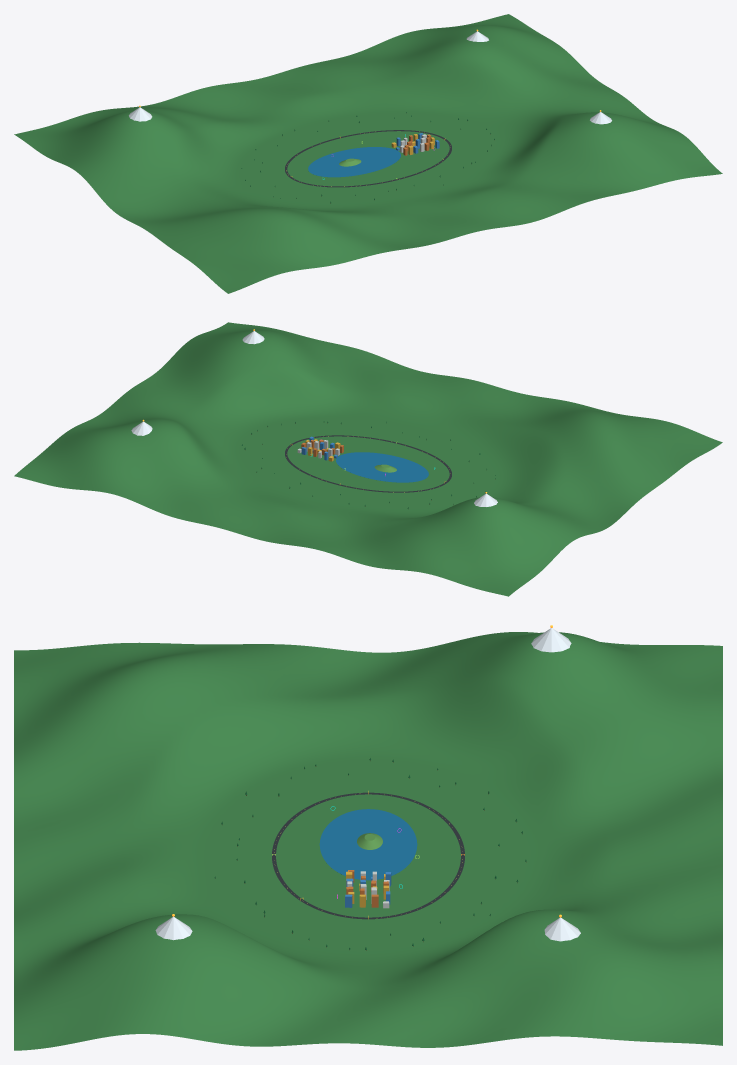
Rendered from arrietty_flight_world.glb.
The picture shows the model from 3 angles, top to bottom: view 1: azimuth 30°, elevation 25°; view 2: azimuth 150°, elevation 25°; view 3: azimuth 270°, elevation 25°; orthographic projection. The views are drawn at different scales.
Visible parts, largest first — view 1: Flight World Terrain, Mirror Lake, Grand Loop Road; view 2: Flight World Terrain, Mirror Lake, Grand Loop Road; view 3: Flight World Terrain, Mirror Lake, Grand Loop Road.
Boxes of the visible parts, x1,y1,x2,y2 form: Flight World Terrain: (14, 14, 722, 293); Mirror Lake: (308, 147, 400, 177); Grand Loop Road: (285, 130, 451, 187); Flight World Terrain: (14, 322, 722, 596); Mirror Lake: (336, 452, 428, 482); Grand Loop Road: (285, 435, 451, 492); Flight World Terrain: (14, 632, 722, 1050); Mirror Lake: (319, 809, 417, 880); Grand Loop Road: (272, 792, 464, 919).
Size of the model in its own units: 3200 by 340 by 2400.
